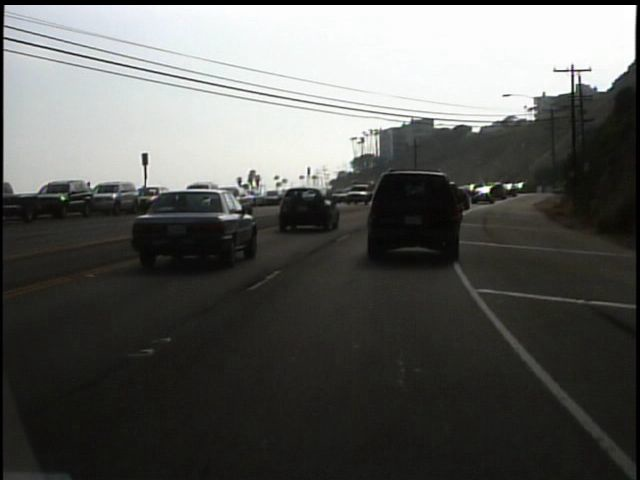person: (83, 180, 95, 190)
